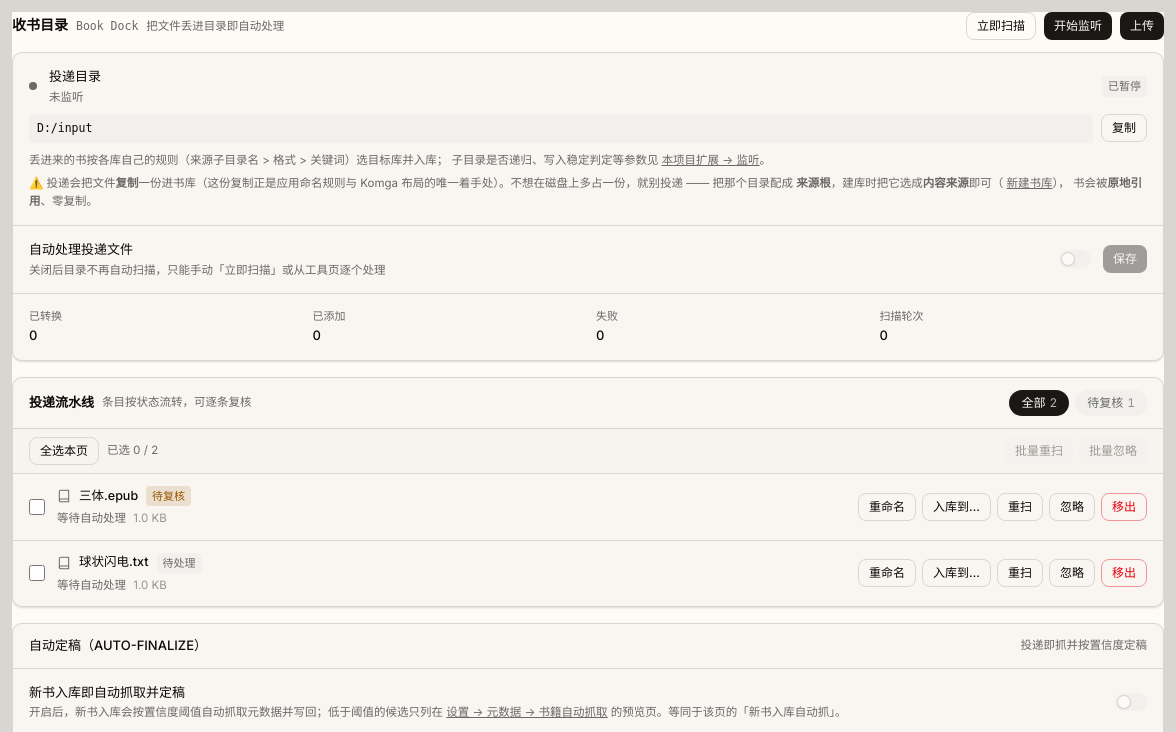
Test case: BookDockPage 第 65 期 5/5：重命名 + 入库到… › 行内改名：Esc 只退回只读态，一个请求都不发
This screenshot has width=1176, height=732.
Click the button "重命名" in the row of "三体.epub" at (887, 507), box [858, 493, 916, 521]
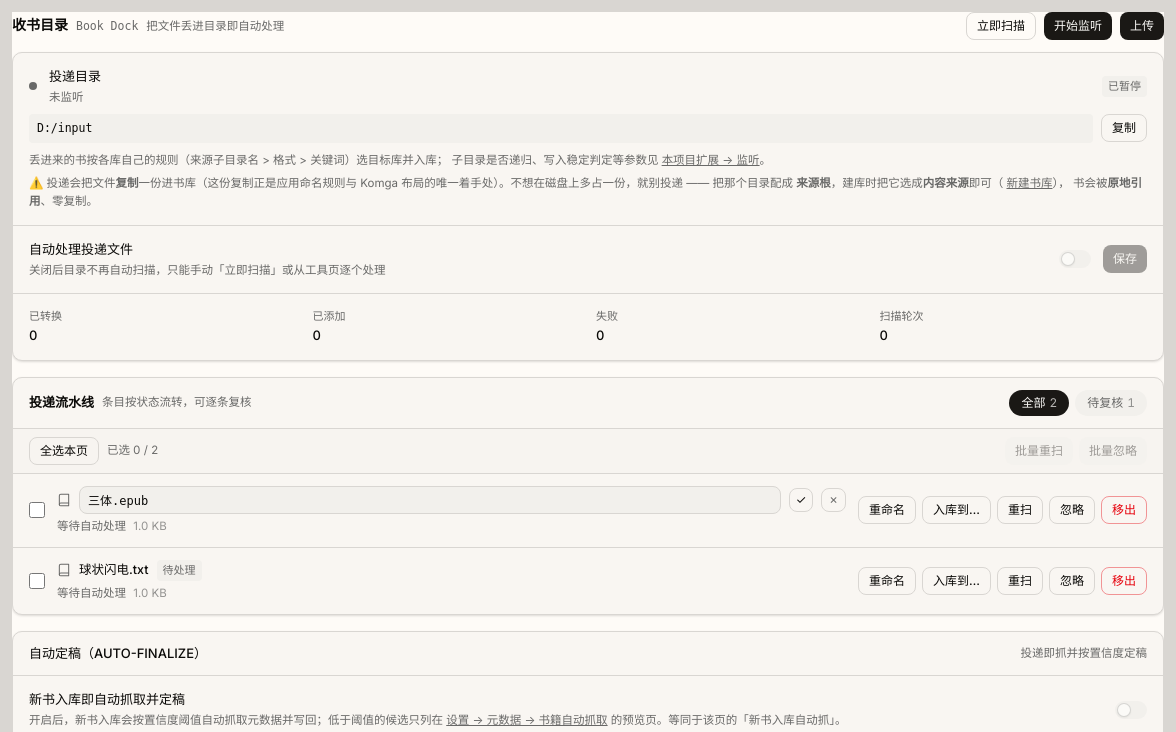
Replace the text in the field named "重命名 三体.epub" with "改了一半.epub" at (430, 500), box [79, 486, 781, 514]
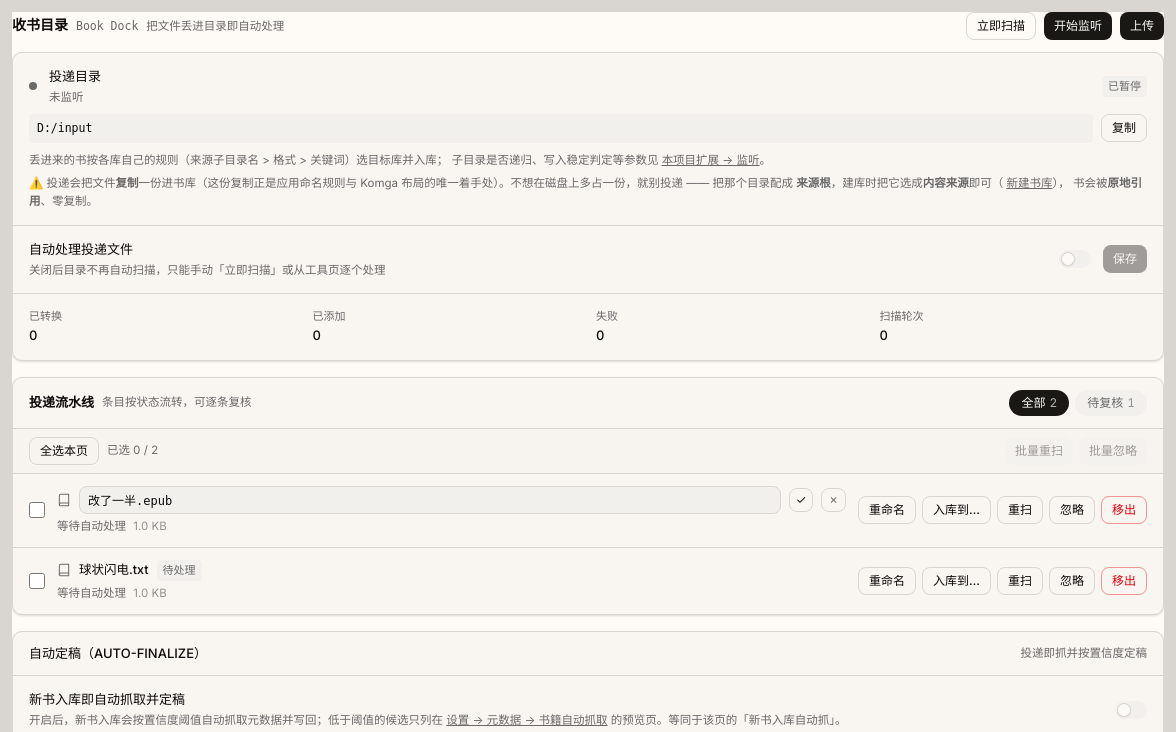
Press Esc in the field named "重命名 三体.epub", box [79, 486, 781, 514]
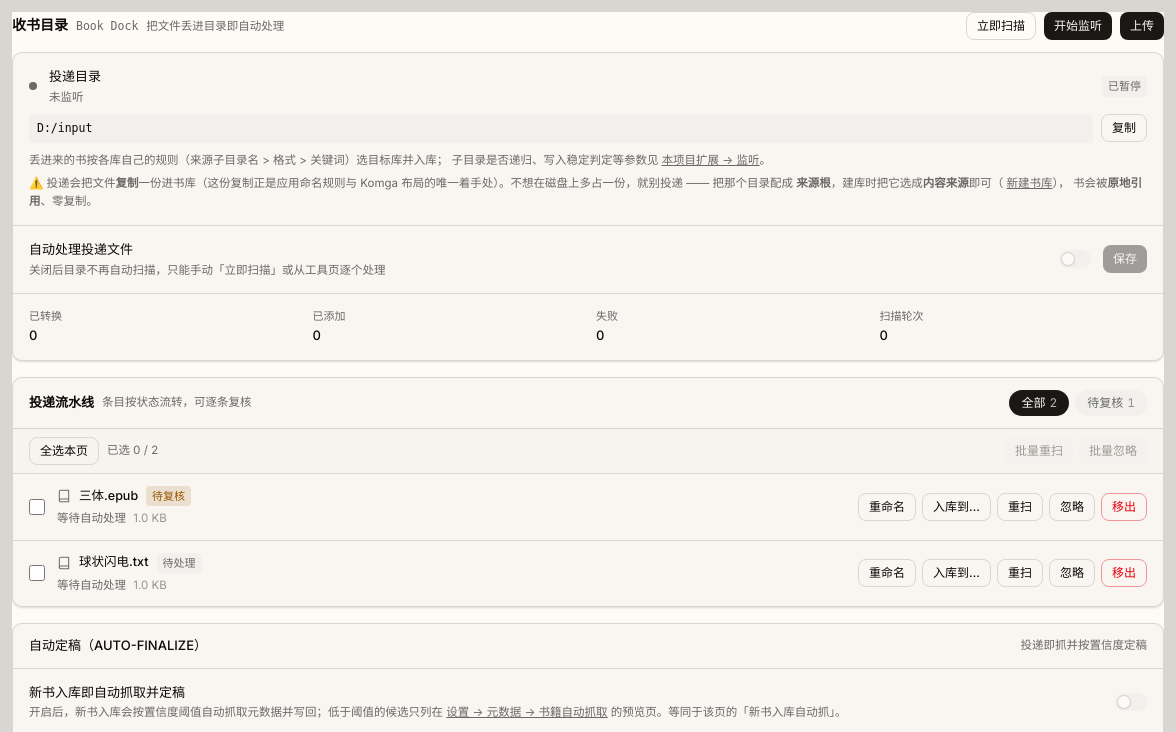
Check: the element showing "三体.epub 待复核 等待自动处理 1.0 KB 重命名 入库到… 重扫 忽略 移出" is shown, box [13, 474, 1163, 541]
